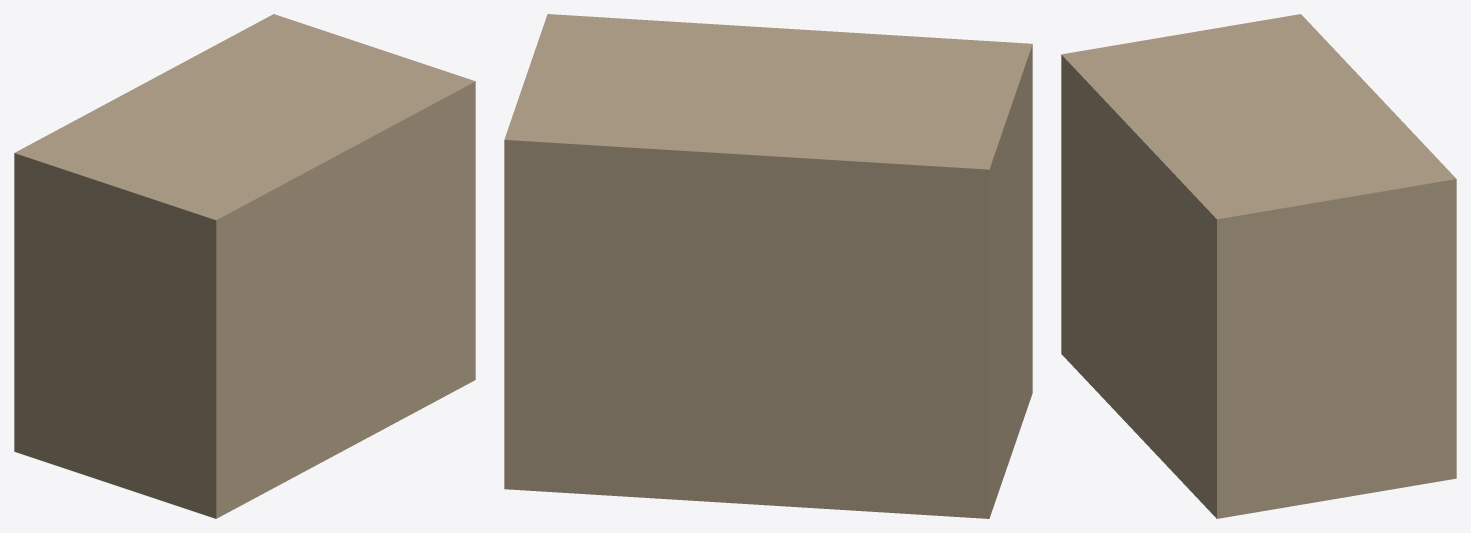
The model's file is bld_106796862.dae.
The picture shows the model from 3 angles, left to right: view 1: azimuth 30°, elevation 25°; view 2: azimuth 150°, elevation 25°; view 3: azimuth 270°, elevation 25°; orthographic projection. The views are drawn at different scales.
Visible parts, largest first — view 1: bld_106796862; view 2: bld_106796862; view 3: bld_106796862.
Boxes of the visible parts, left/top/right/bottom form: bld_106796862: left=14, top=14, right=475, bottom=518; bld_106796862: left=504, top=14, right=1032, bottom=518; bld_106796862: left=1061, top=14, right=1456, bottom=518.
Bounding box in the file's own units: 11.76 × 9.57 × 8.
